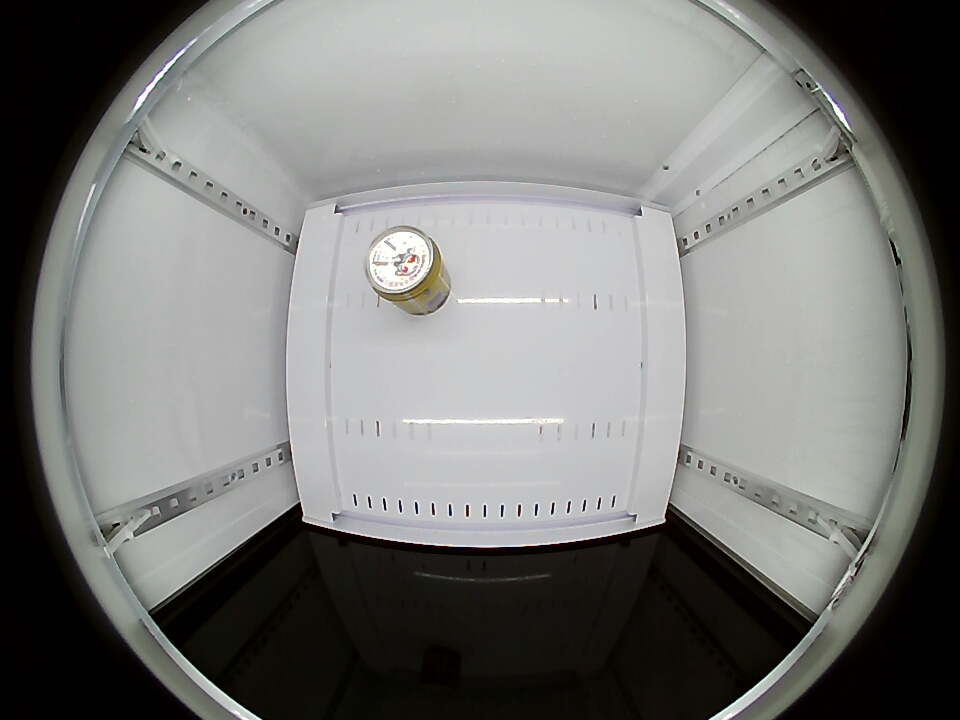hongniu2: (365, 226, 446, 309)
